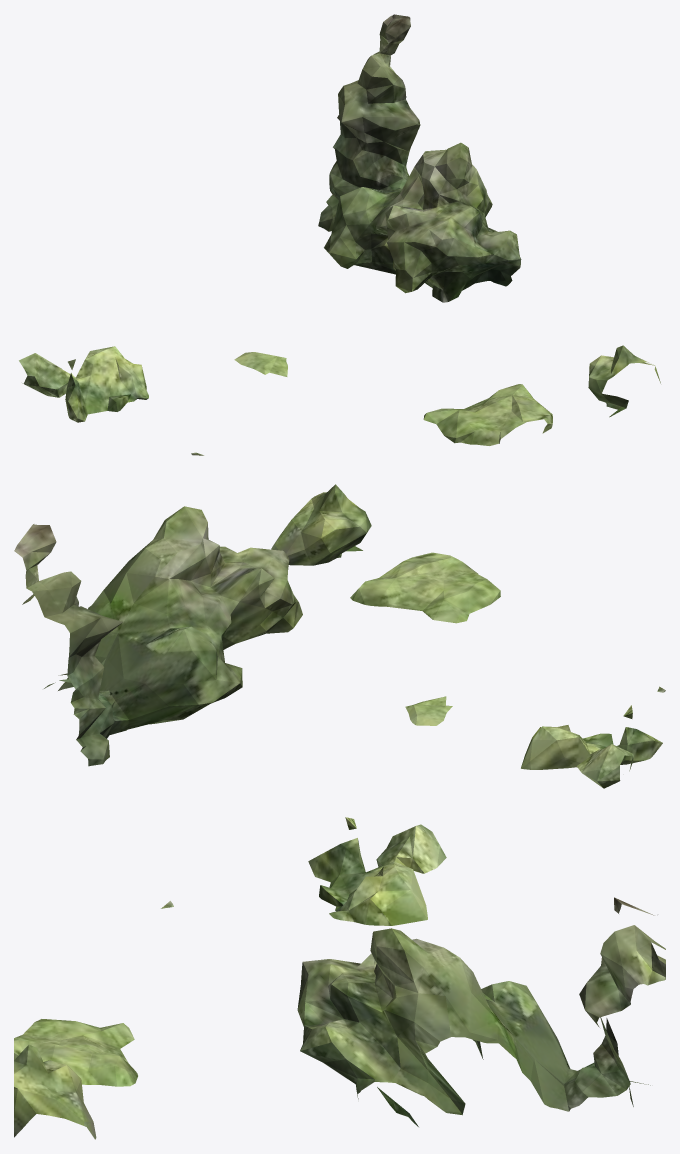
The picture shows the model from 3 angles, top to bottom: view 1: azimuth 30°, elevation 25°; view 2: azimuth 150°, elevation 25°; view 3: azimuth 270°, elevation 25°; orthographic projection. The views are drawn at different scales.
Size of the model in its own units: 26.11 by 10.44 by 26.11.
2 materials, 2 textured.
